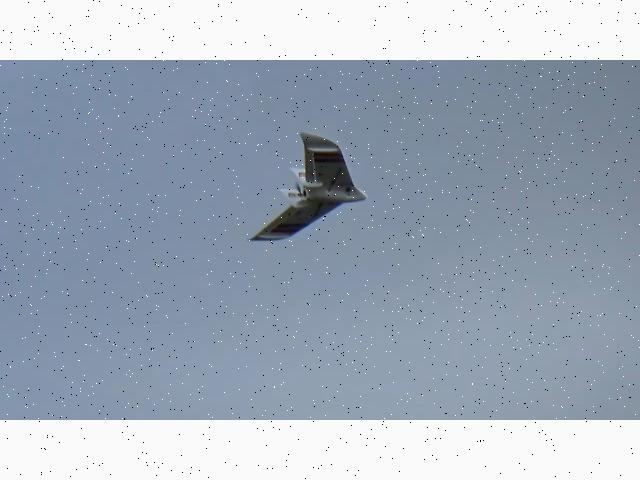Anti-Drone: (244, 130, 368, 242)
